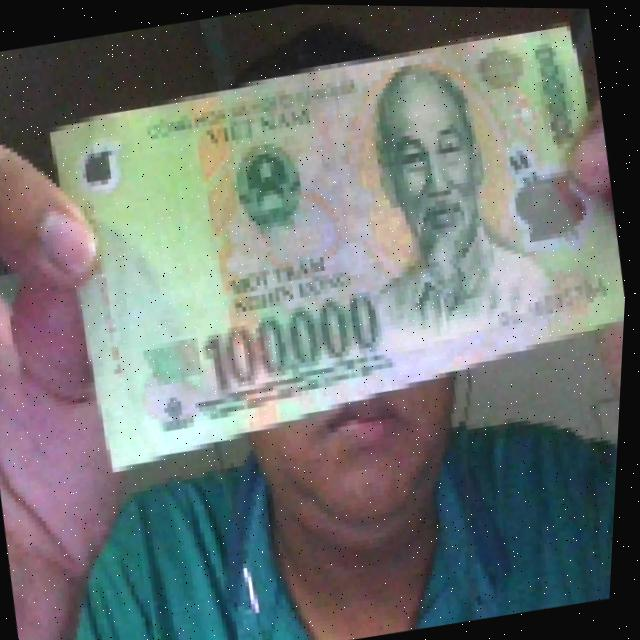100 000 VND: (19, 0, 640, 477)
